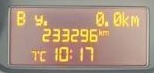-: (42, 19, 47, 26), (104, 20, 108, 26)
0: (58, 45, 68, 61), (94, 10, 103, 26), (112, 11, 121, 27)
1: (78, 46, 83, 61), (53, 46, 57, 61)
2: (41, 27, 50, 42), (69, 27, 78, 42)
3: (50, 27, 60, 42), (60, 27, 69, 42)
6: (88, 27, 97, 42)
7: (83, 45, 93, 61), (30, 49, 36, 60)
9: (79, 28, 88, 42)
X: (15, 9, 26, 25), (33, 12, 42, 26), (129, 14, 139, 26), (121, 11, 128, 27), (38, 49, 46, 61), (68, 48, 72, 59), (102, 29, 108, 36), (97, 28, 102, 36)
